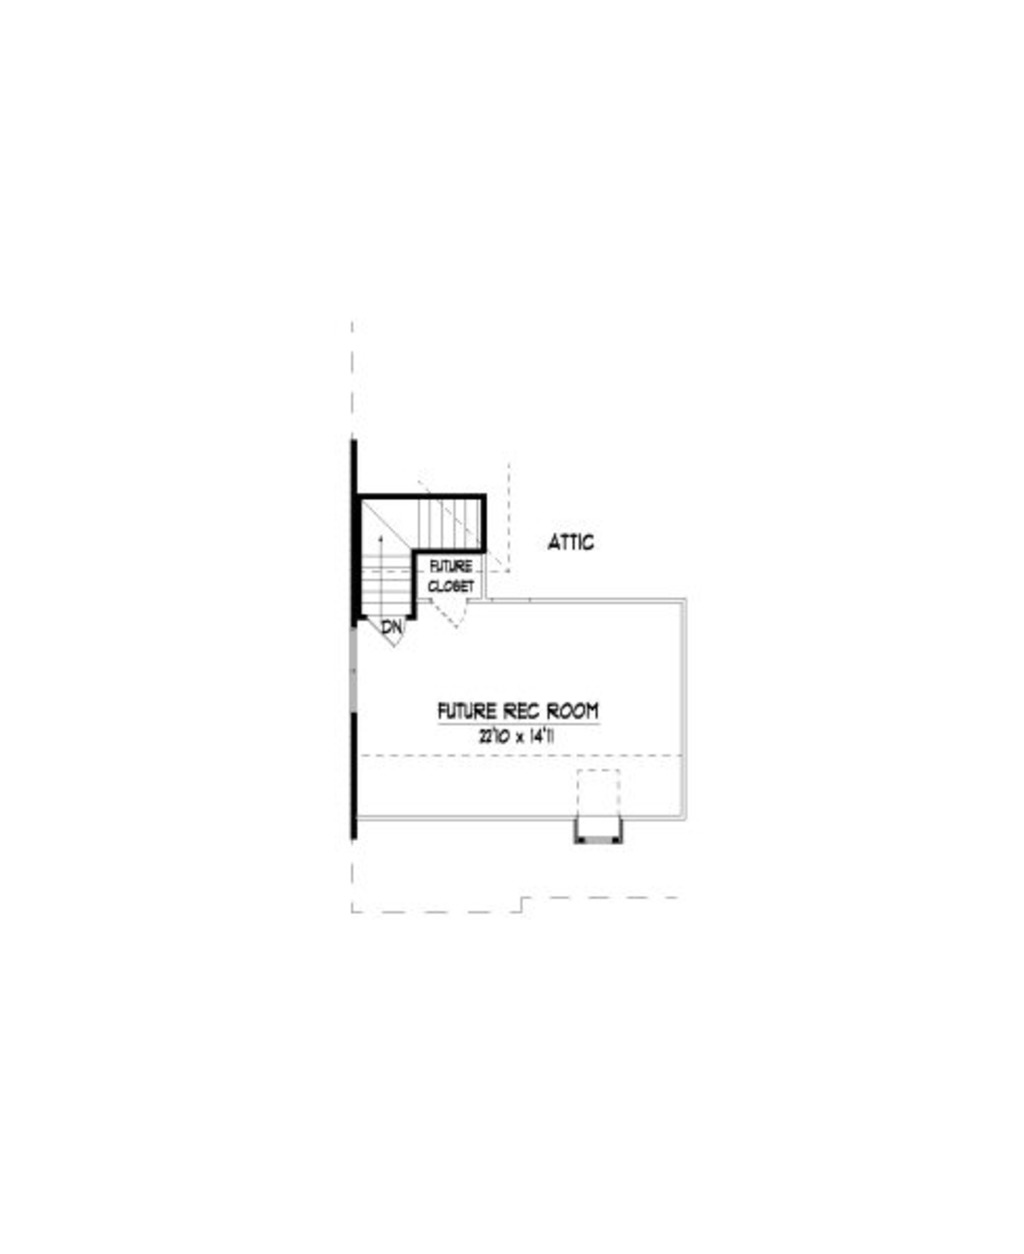door: (421, 581, 477, 634)
stairs: (348, 479, 525, 637)
window: (348, 633, 361, 719), (592, 829, 619, 842)
